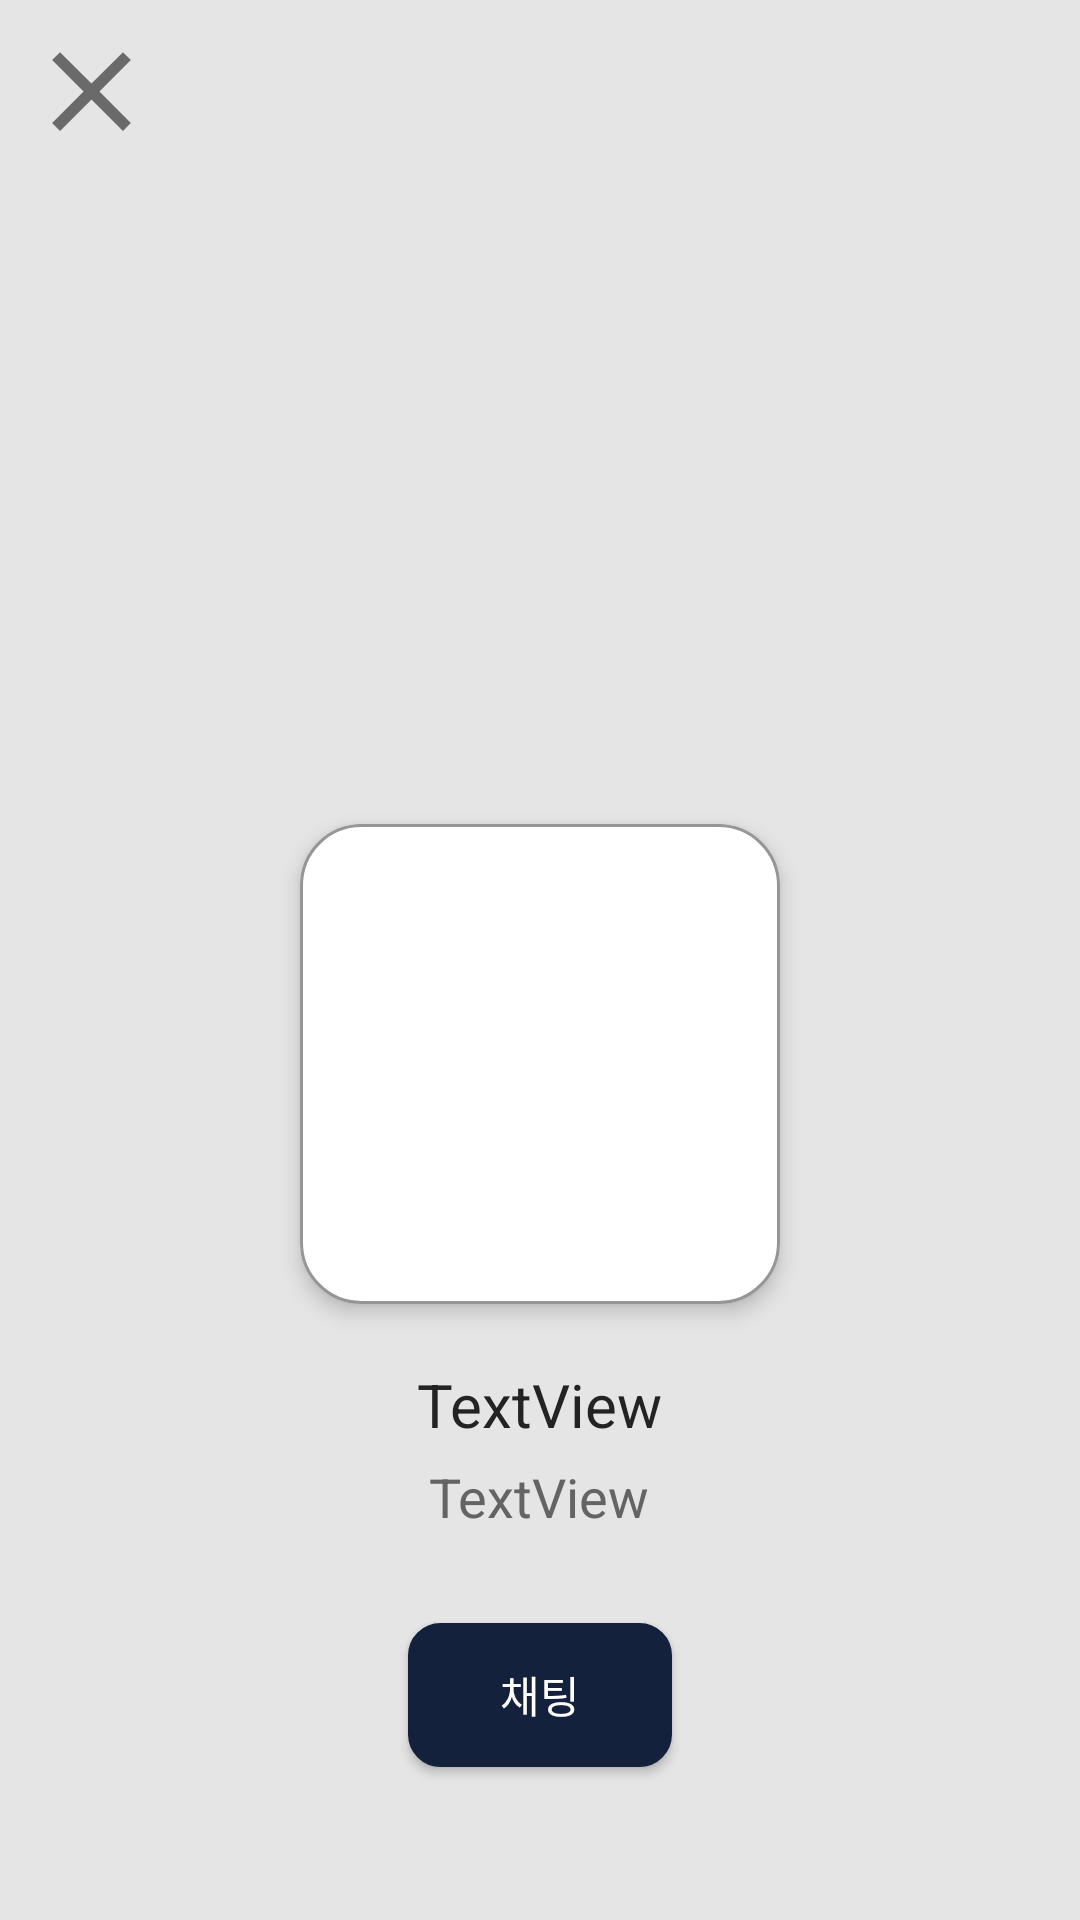

Where icons sit on this 1080x1920 app screen, as [left=x1, top=y1, right=x2, bottom=y2]:
clear opacity: [left=52, top=52, right=131, bottom=131]
